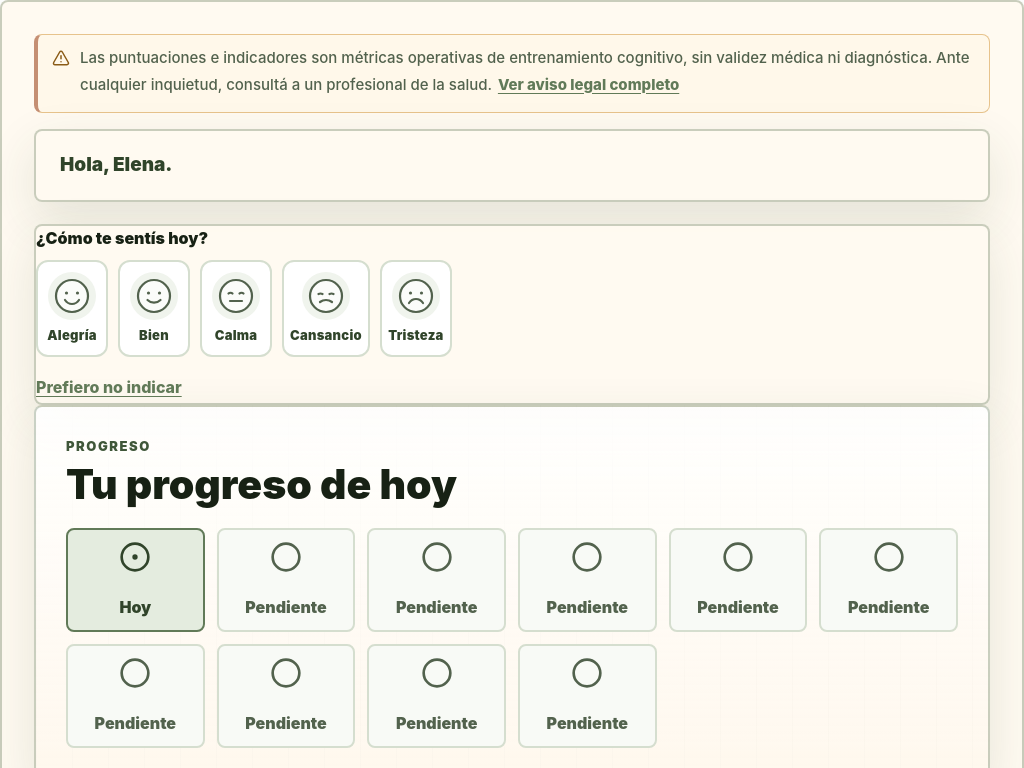
Test: PatientScreen — layout mobile › mobile: el aviso legal completo se abre desde el aviso compacto
The image size is (1024, 768).
Click the button "Ver aviso legal completo": x=589, y=85 [498, 70, 679, 100]
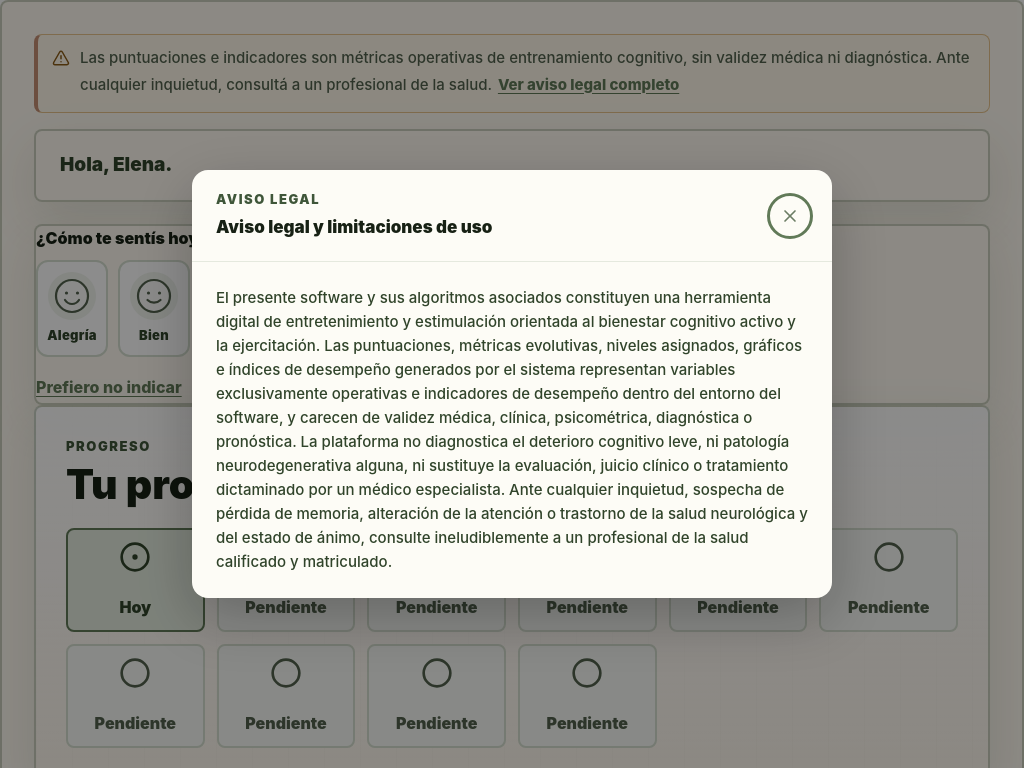
Expected: the text "El presente software y sus algoritmos asociados constituyen una herramienta digital de entretenimiento y estimulación or" is shown, [216, 288, 808, 571]
